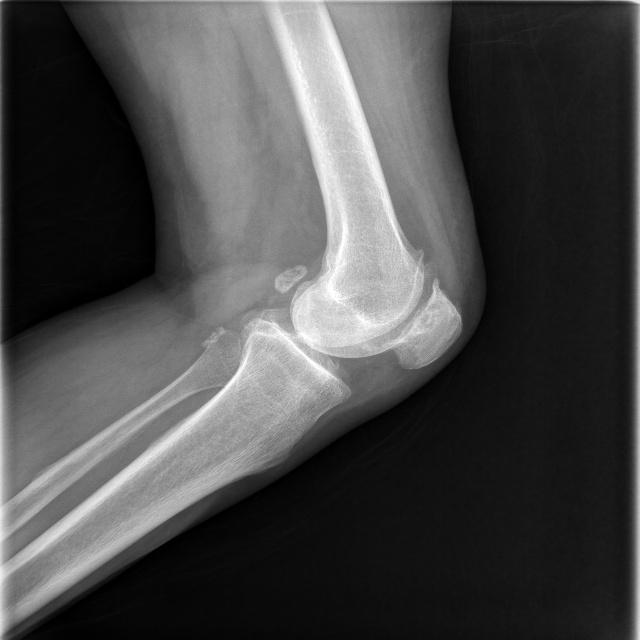Knee: (233, 220, 468, 406)
